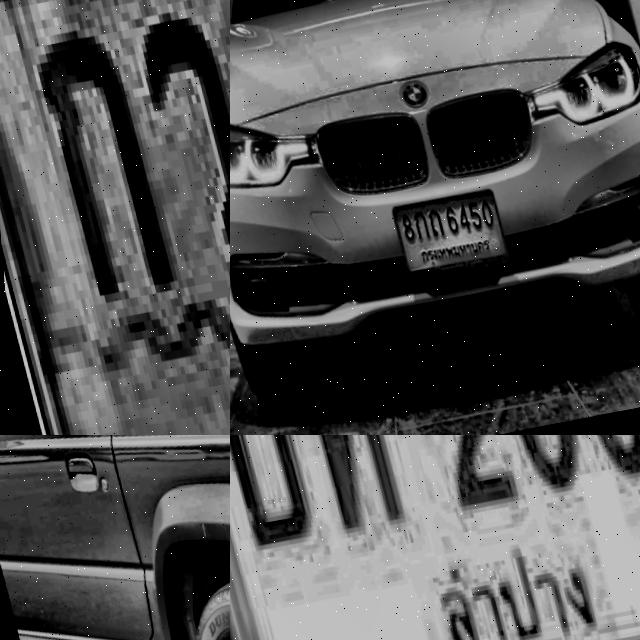license-plate: (0, 0, 230, 435), (230, 435, 640, 640), (378, 184, 506, 279)
